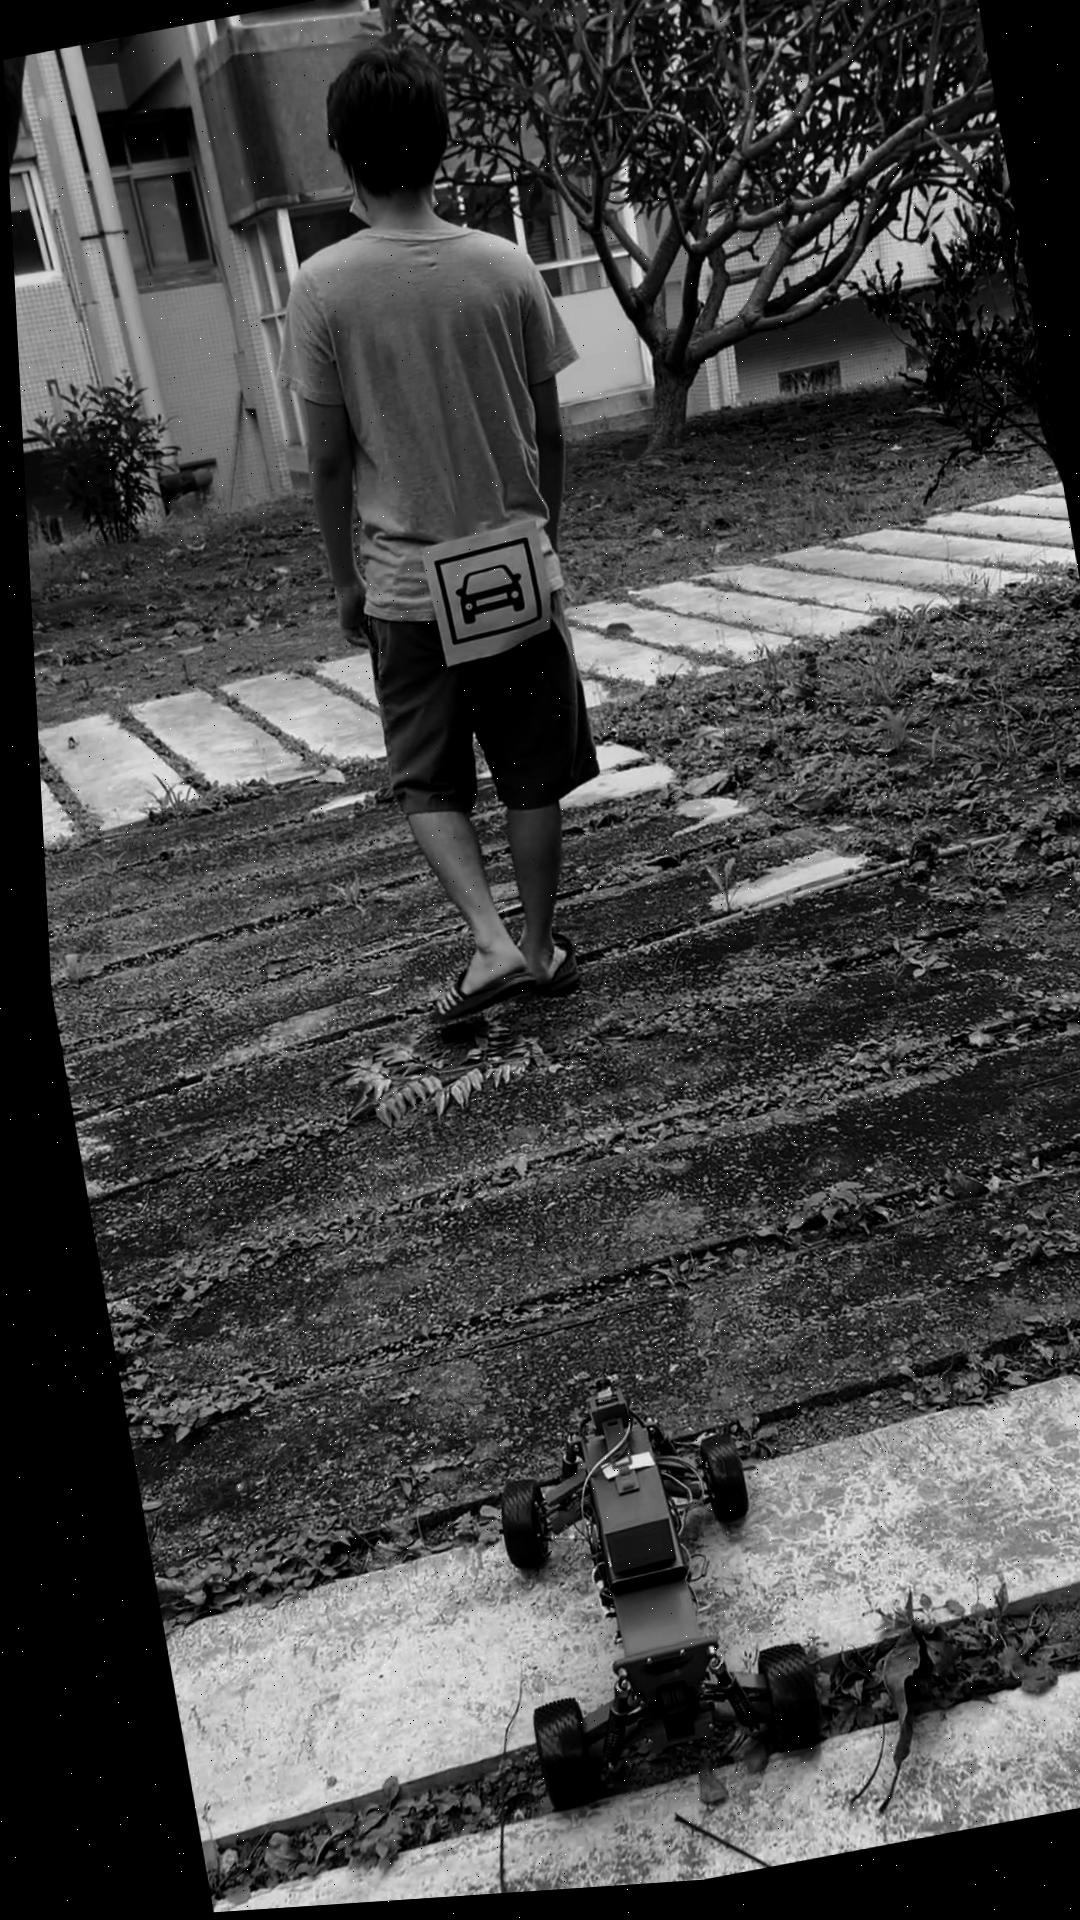car_img: (425, 542, 538, 653)
